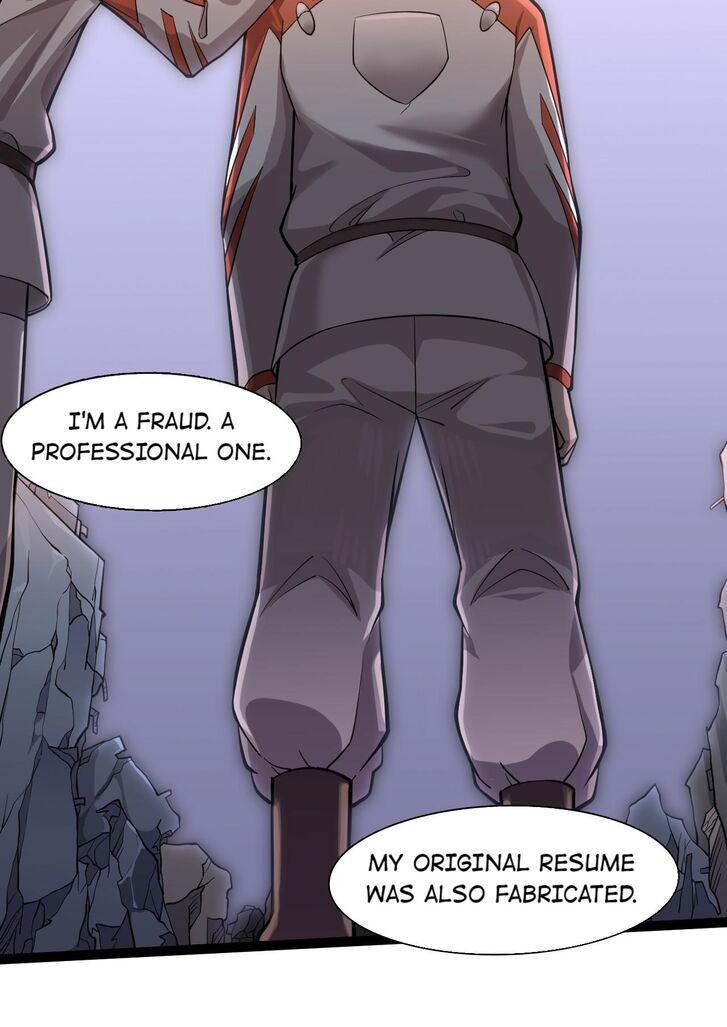Bubble: (326, 800, 685, 960), (1, 367, 307, 514)
